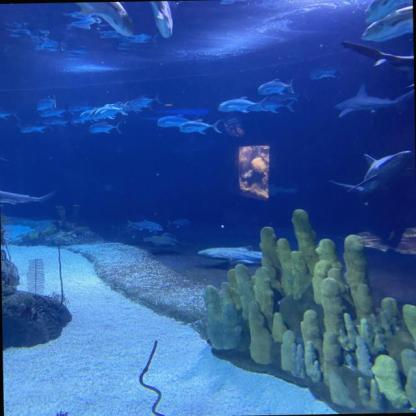fish: (75, 1, 138, 36), (359, 6, 413, 45), (346, 0, 413, 22), (197, 246, 266, 266), (145, 1, 174, 42), (304, 61, 340, 82), (178, 120, 217, 138), (253, 80, 294, 96), (155, 112, 195, 127), (218, 98, 257, 113), (263, 98, 297, 113), (122, 221, 161, 233), (130, 93, 156, 110), (33, 95, 63, 109), (89, 106, 116, 121), (18, 121, 46, 134), (94, 105, 121, 118), (76, 109, 100, 122), (167, 218, 193, 230), (88, 123, 116, 134), (36, 108, 64, 118), (45, 117, 69, 128), (0, 109, 21, 121)
shark: (345, 150, 409, 202), (331, 89, 400, 118), (352, 44, 414, 74), (0, 189, 49, 210)
stingray: (142, 234, 176, 248)
